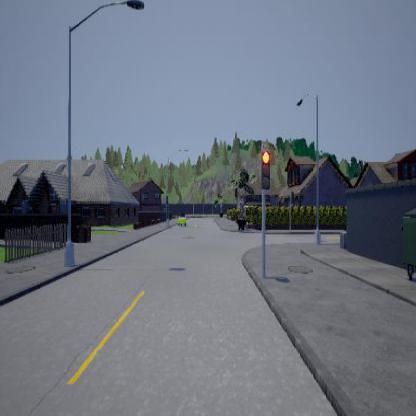traffic_light_red: (261, 143, 269, 196)
vehicle: (176, 212, 186, 224)
